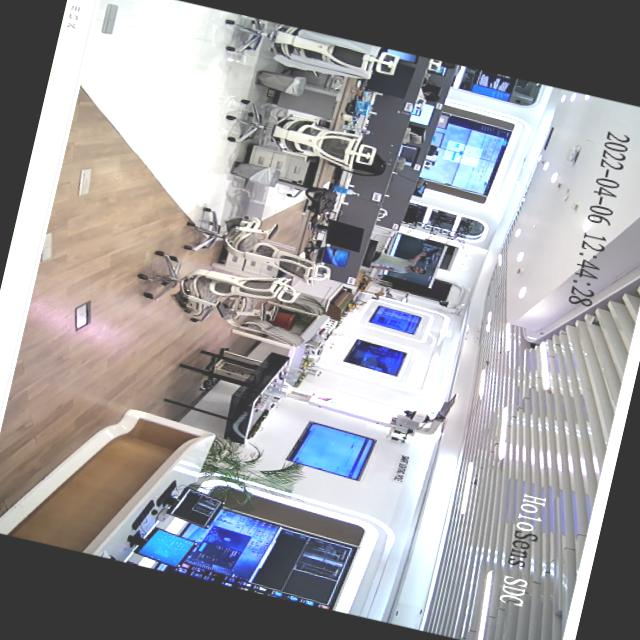long weapon: (414, 243, 440, 264)
